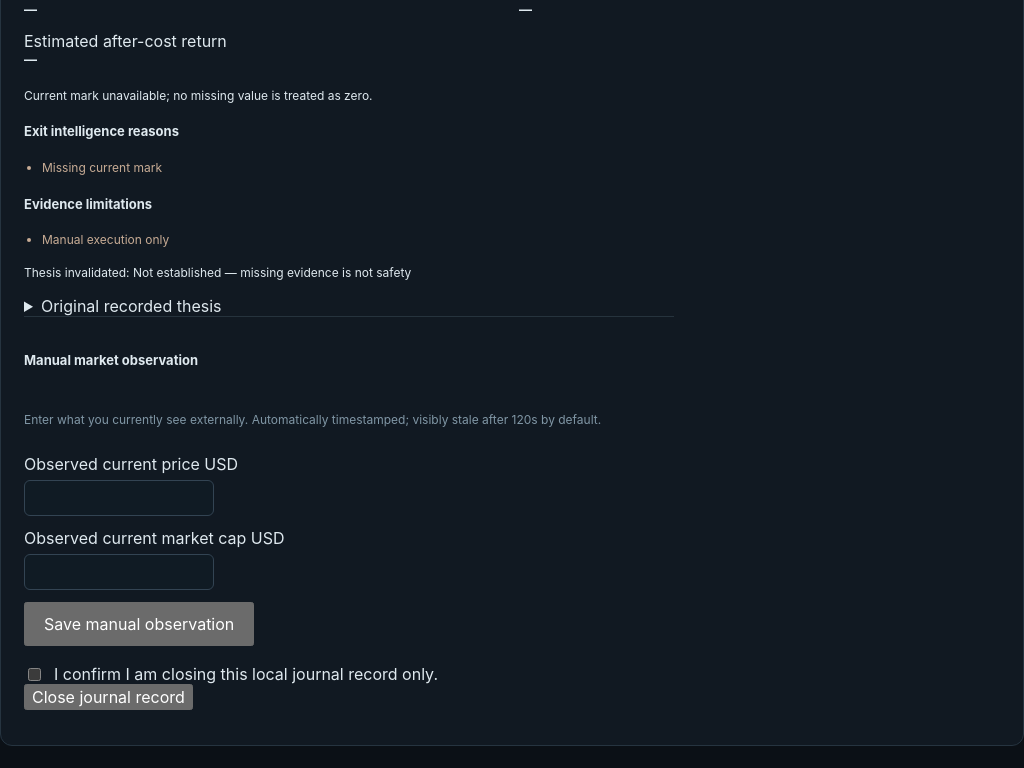
Scenario: closing journal requires confirmation and sends no transaction endpoint
(page scrolled)
Click the button "Close journal record" at (108, 697), box 24,684 -> 193,710
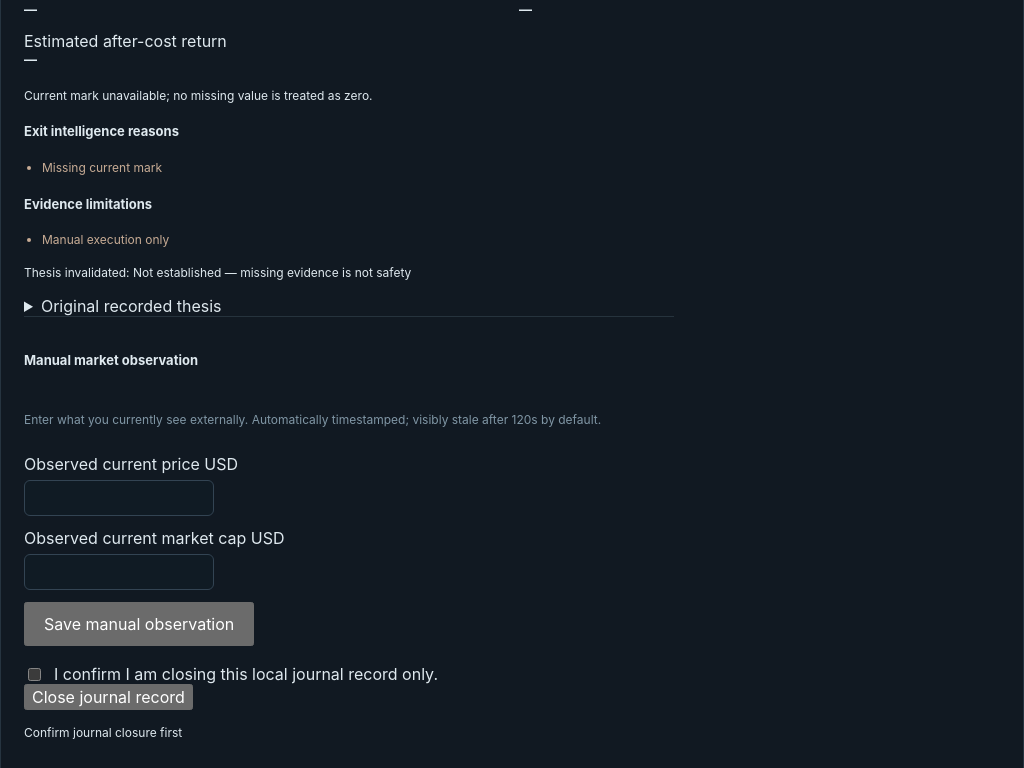
Now the text "Confirm journal closure first" is shown, box 24,725 -> 182,740
Click the checkbox at (34, 674), box 28,668 -> 41,680
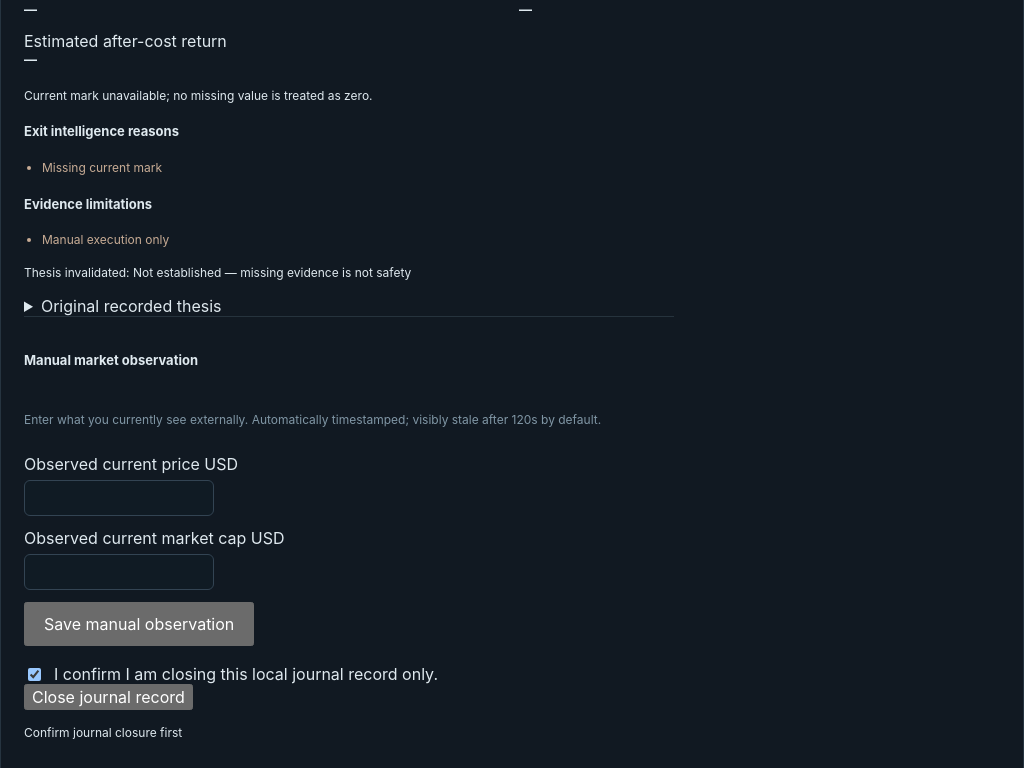
Click the button "Close journal record" at (108, 697), box 24,684 -> 193,710
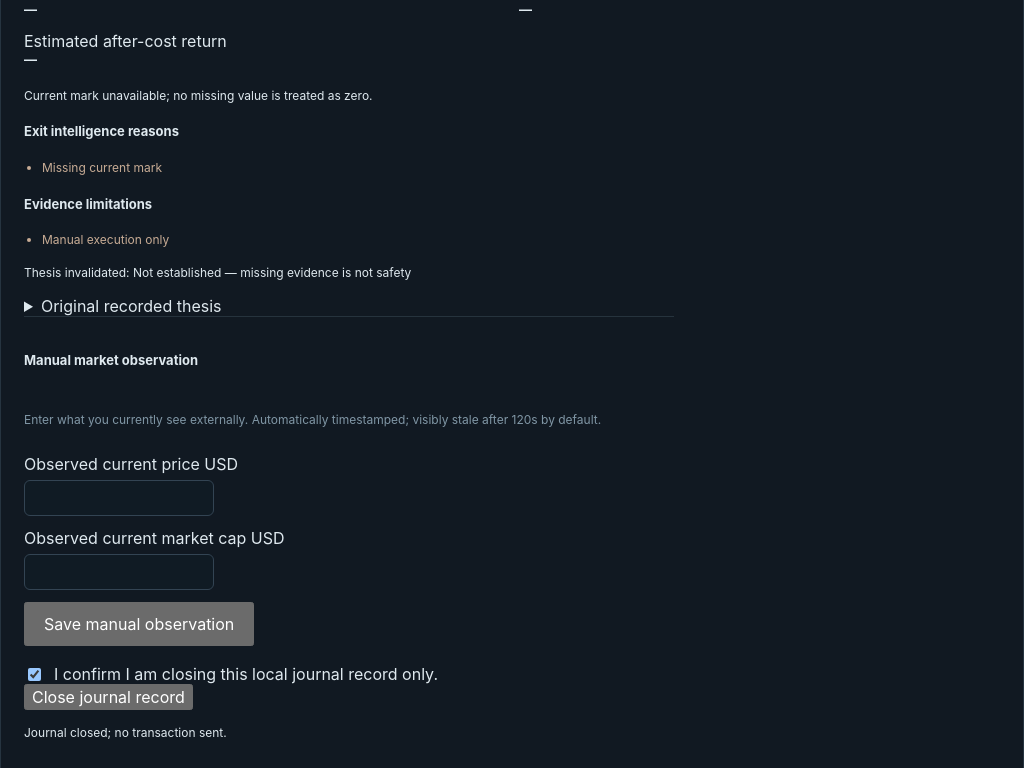
Now the text "Journal closed; no transaction sent." is shown, box 24,725 -> 227,740
